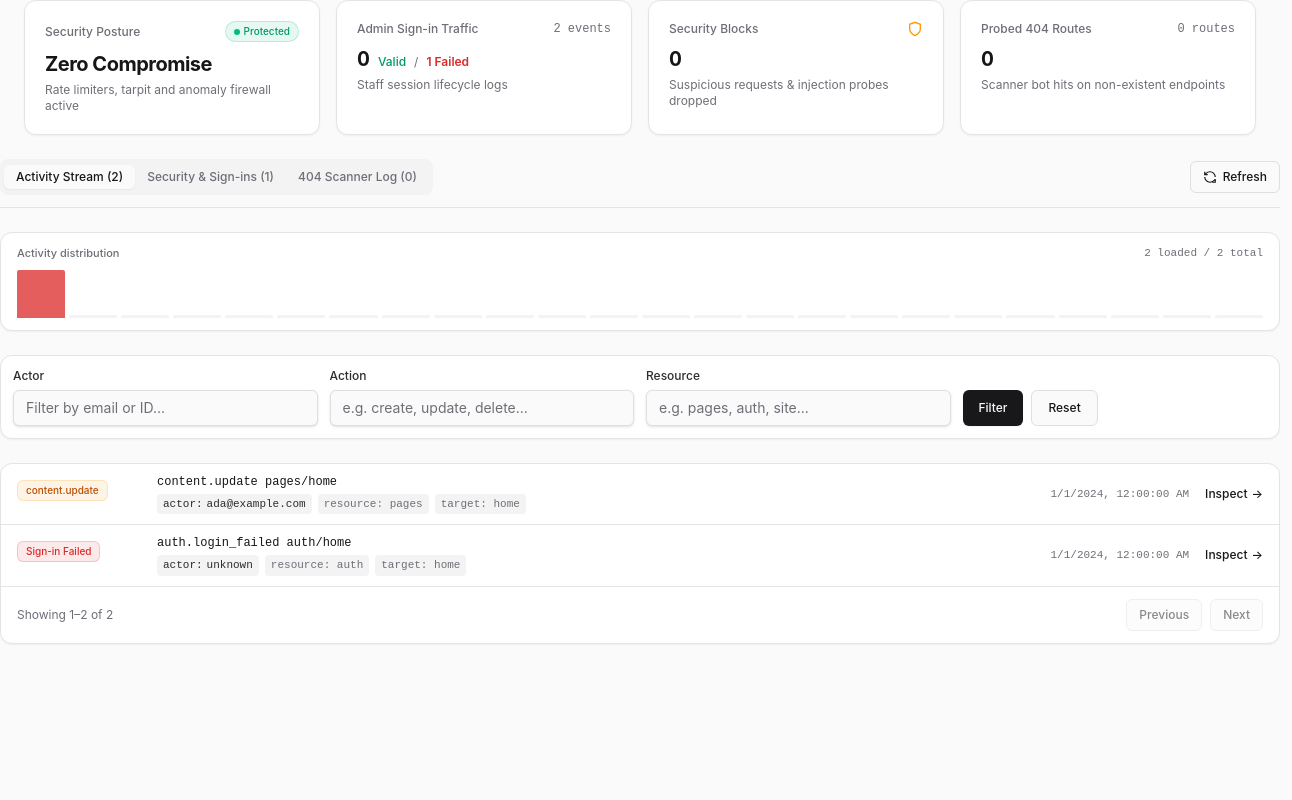
Scenario: AuditView › filters the security tab to auth/security entries only
Check: the text "ada@example.com" is shown, box top-left (207, 496), bottom-right (306, 512)
Click the button "Security & Sign-ins (1)".
click(211, 177)  # box top-left (135, 165), bottom-right (286, 189)
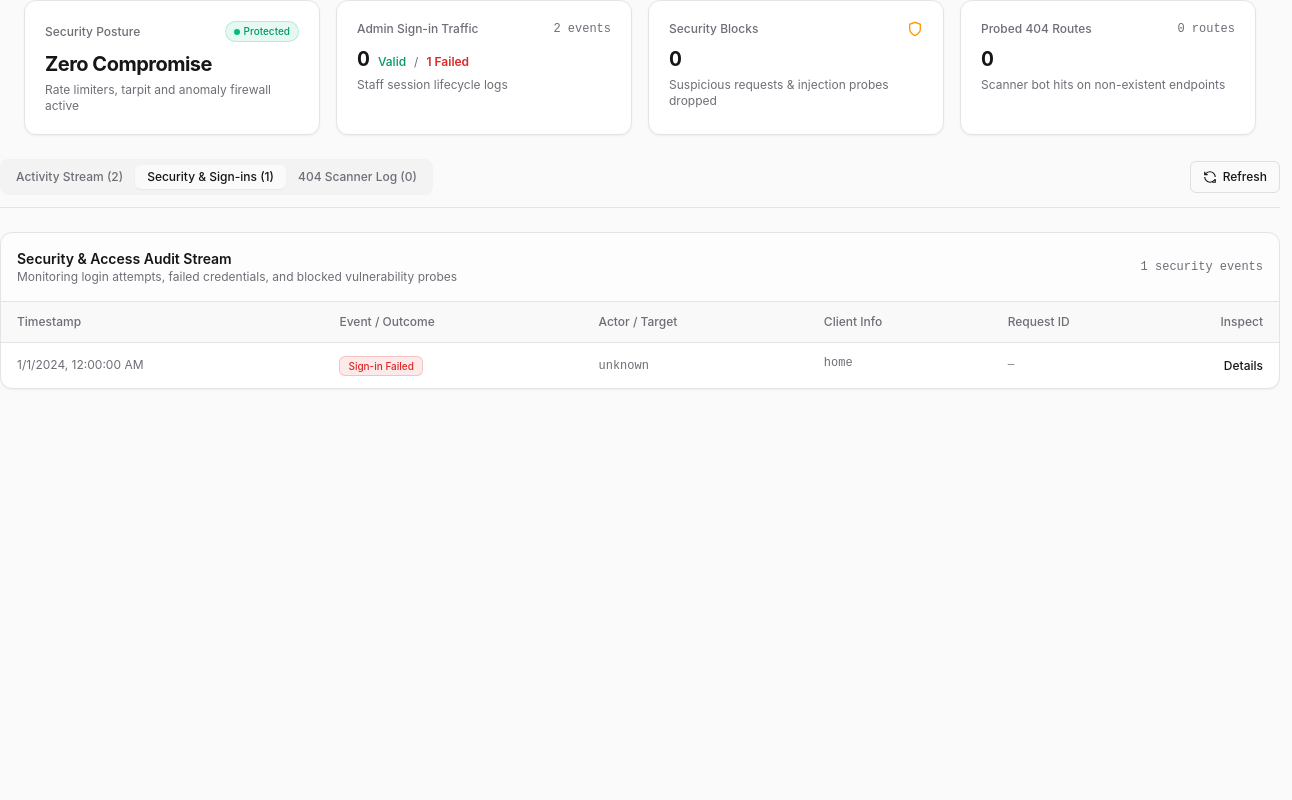
Check: the text "Sign-in Failed" is shown, box top-left (339, 356), bottom-right (423, 376)
Check: the text "ada@example.com" is gone
